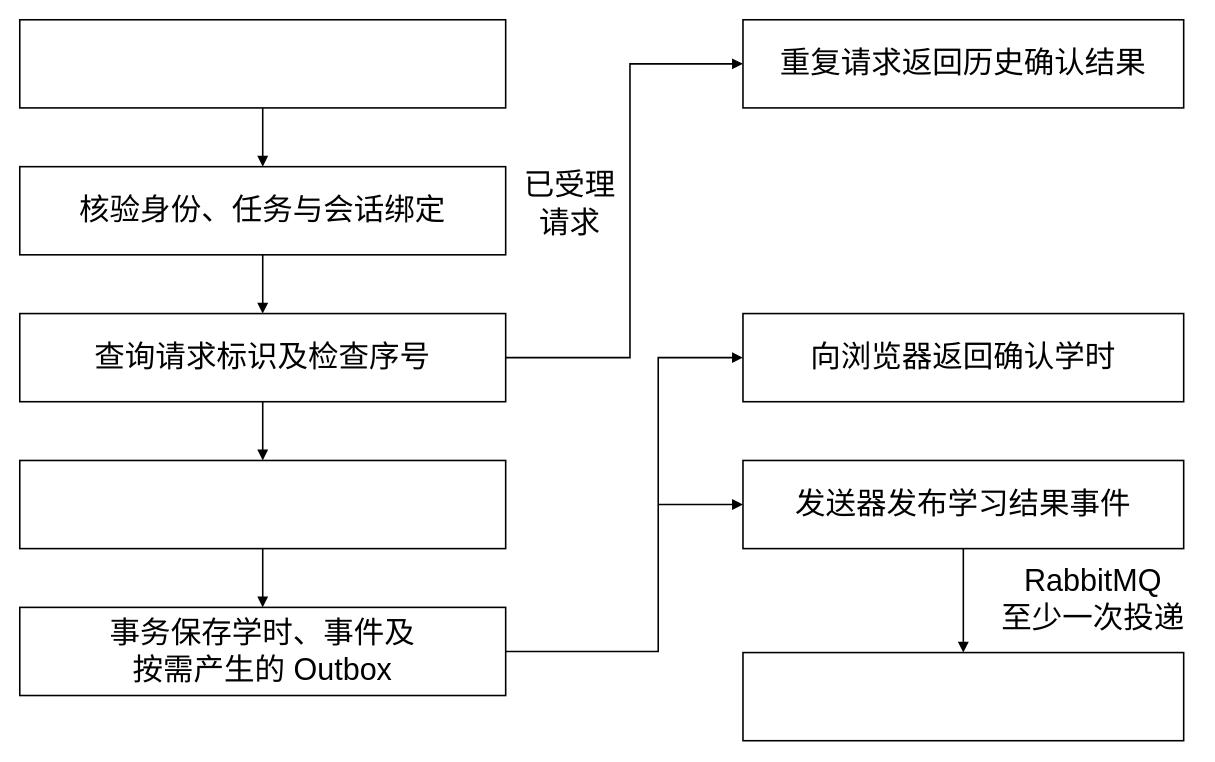
Some shapes in this 1215 by 762 pixel diagram are drawn without their labels. Here are the shapes that lost their labels. From the top down, the centre of each, then its label:
(262,63): 学员发送进度消息
(262,504): 核验学习状态与计时条件
(963,696): 培训服务去重并更新任务
